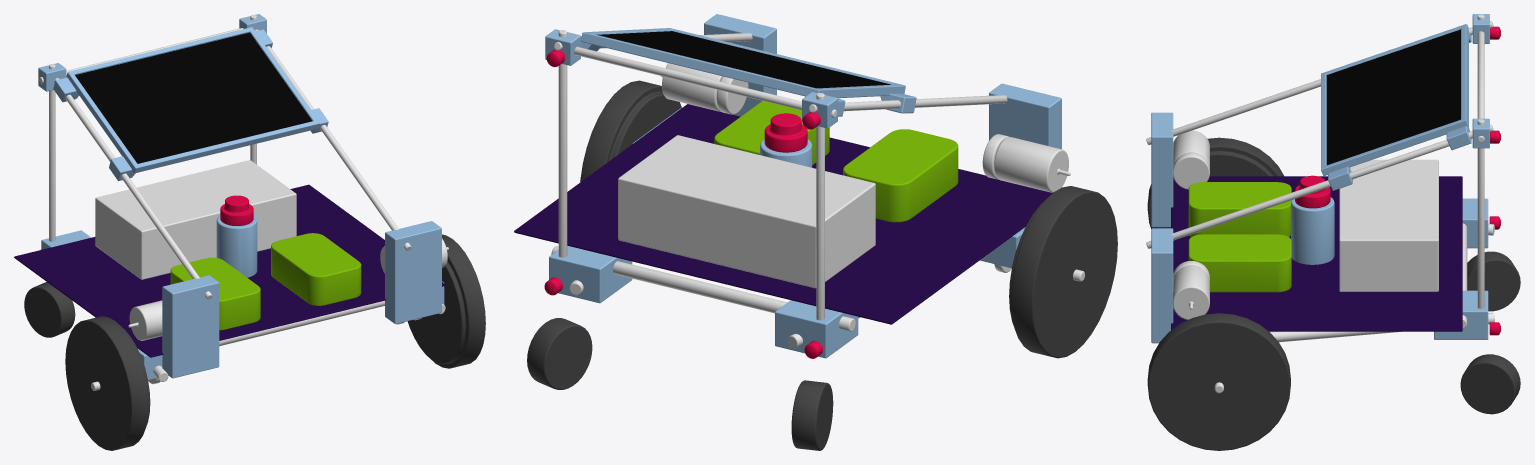
The model's file is robot.glb.
3 views of the same model, side by side, from view 1: azimuth 30°, elevation 25°; view 2: azimuth 150°, elevation 25°; view 3: azimuth 270°, elevation 25° (orthographic). The views are drawn at different scales.
Parts seen in each view (by area): view 1: Cube, Plane, Cylinder, Cube.002, Cube.001, Cylinder.001; view 2: Cube, Cylinder, Cube.002, Cube.001, Plane, Cylinder.001; view 3: Cube, Cylinder, Plane, Cube.002, Cube.001, Cylinder.001.
Boxes of the visible parts, box(x1,y1,x2,y2) form: Cube: box(14, 14, 445, 381); Plane: box(66, 27, 320, 173); Cylinder: box(24, 234, 485, 450); Cube.002: box(95, 160, 296, 279); Cube.001: box(170, 233, 361, 330); Cylinder.001: box(216, 195, 257, 277); Cube: box(514, 14, 1061, 358); Cylinder: box(527, 63, 1117, 450); Cube.002: box(618, 135, 875, 288); Cube.001: box(714, 101, 958, 222); Plane: box(581, 28, 905, 98); Cylinder.001: box(760, 113, 812, 167); Cube: box(1146, 14, 1500, 343); Cylinder: box(1147, 130, 1520, 450); Plane: box(1321, 24, 1468, 175); Cube.002: box(1339, 159, 1438, 291); Cube.001: box(1188, 182, 1291, 292); Cylinder.001: box(1291, 175, 1334, 264).
Size of the model in its own units: 0.853 by 0.608 by 0.7085.
